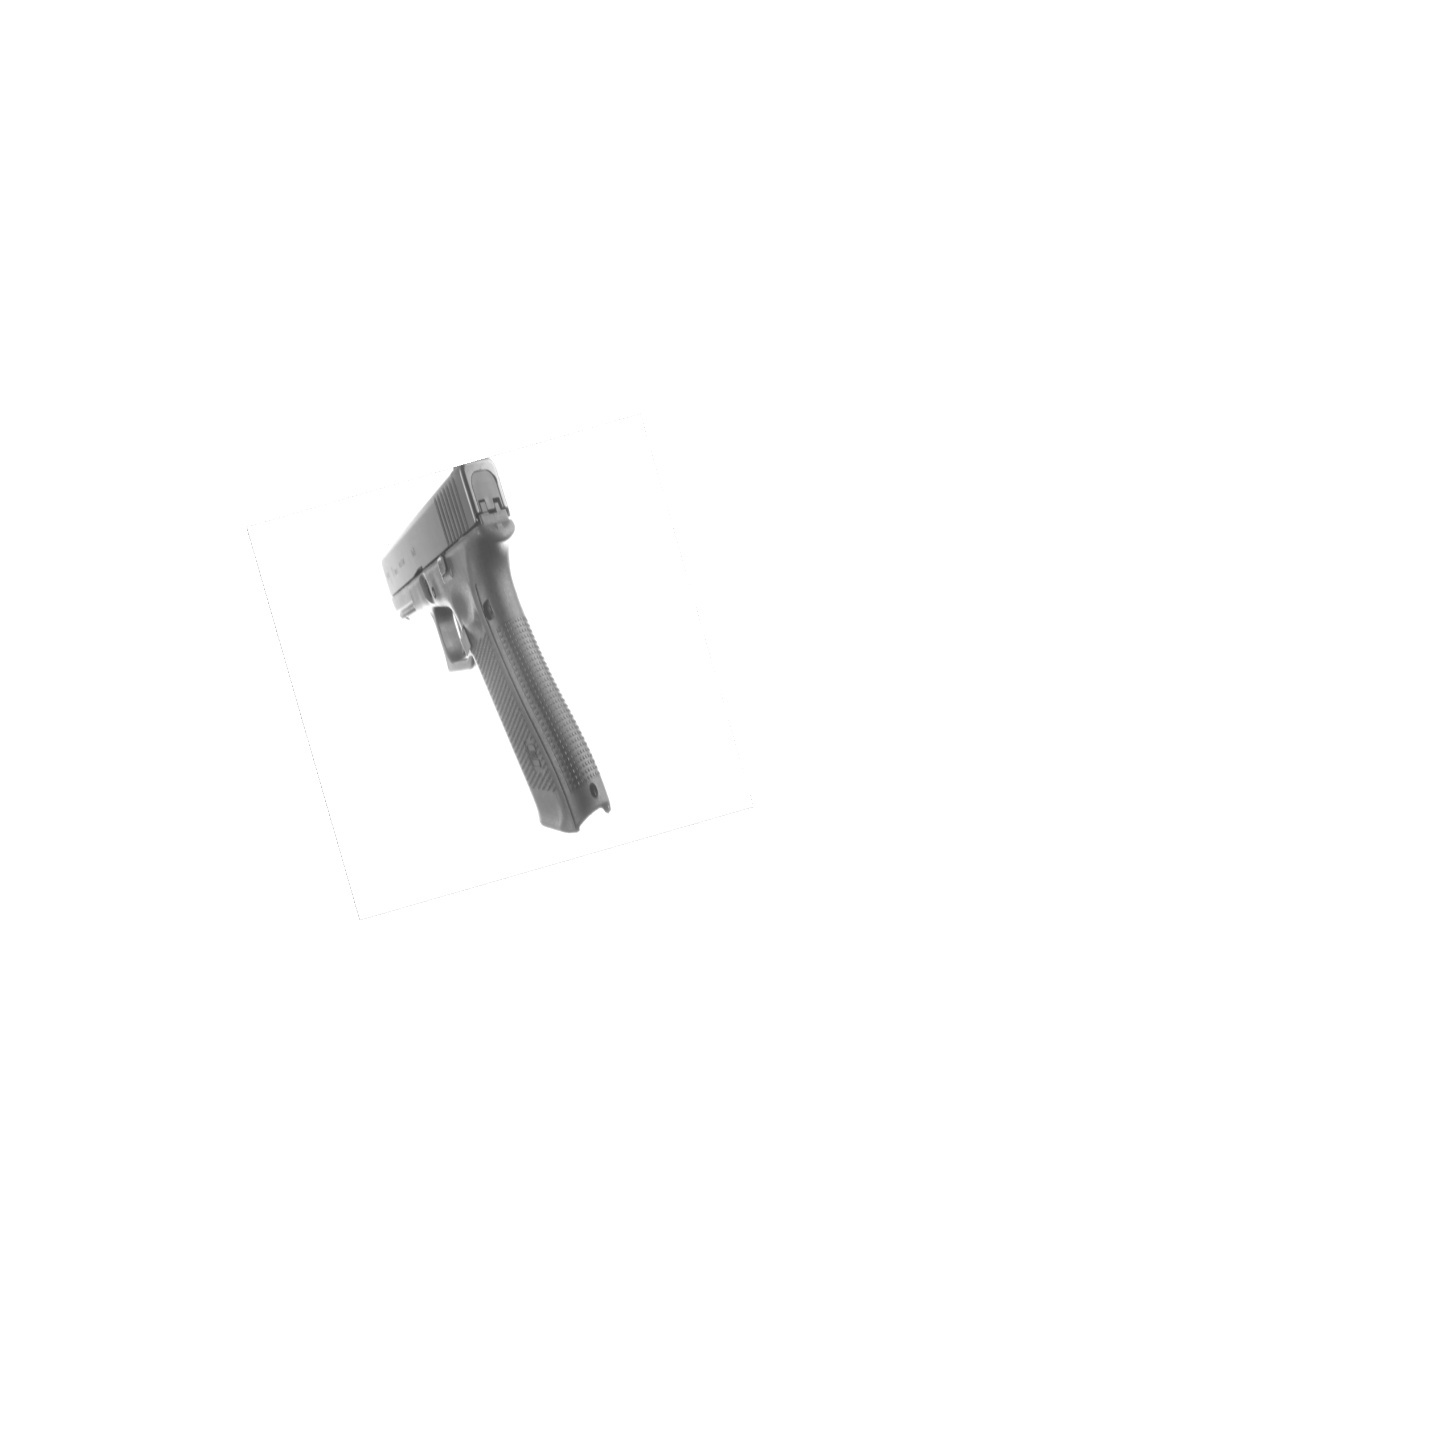gun: (383, 446, 608, 834)
